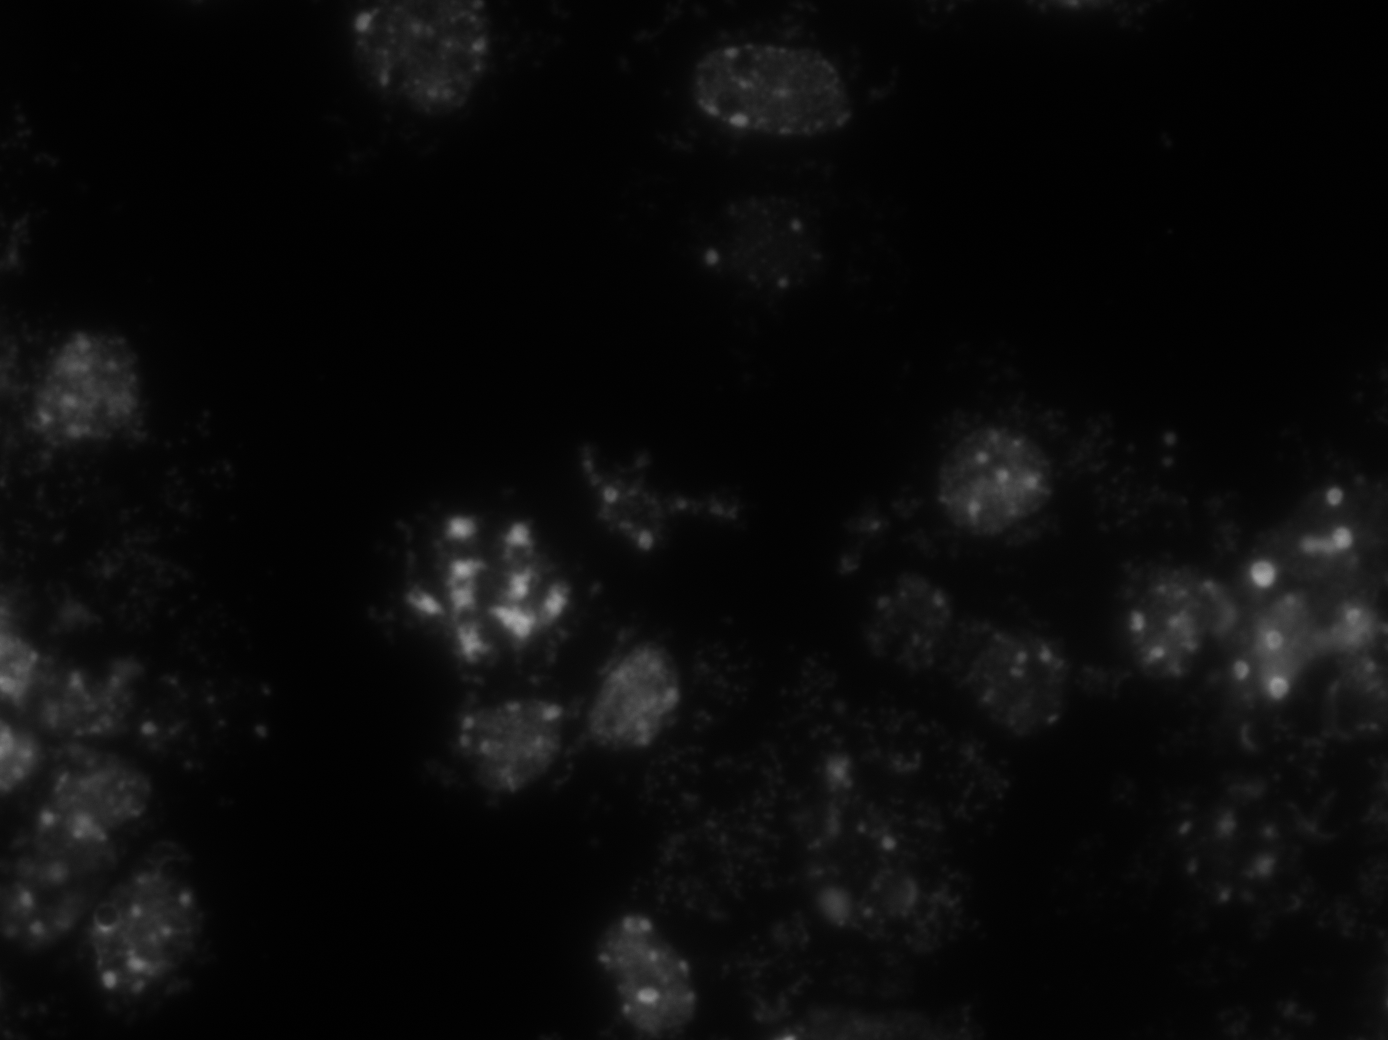Chromosomes: (372, 446, 609, 716), (1129, 474, 1350, 757)
Others: (17, 667, 239, 1023), (892, 371, 1099, 567), (634, 13, 894, 168), (43, 832, 228, 1021), (300, 1, 534, 142), (667, 133, 876, 274)
